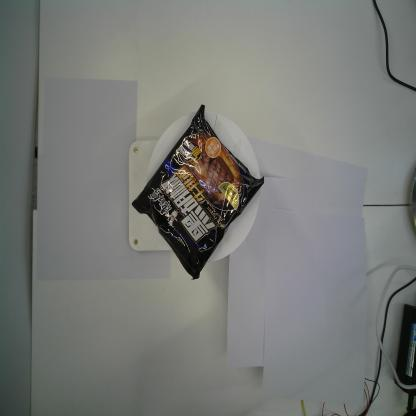Instant Noodles: (130, 102, 266, 282)
